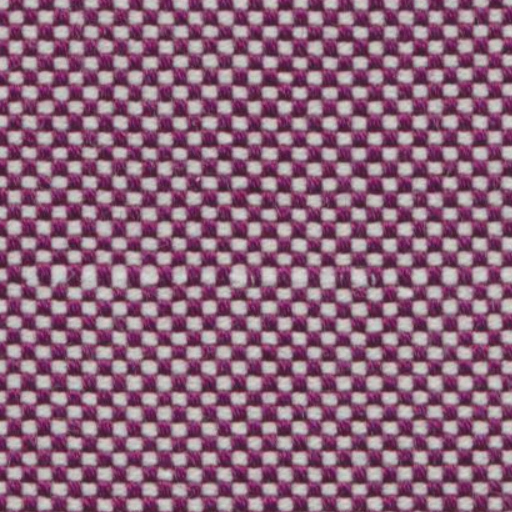DaiSha: (24, 250, 496, 295)
